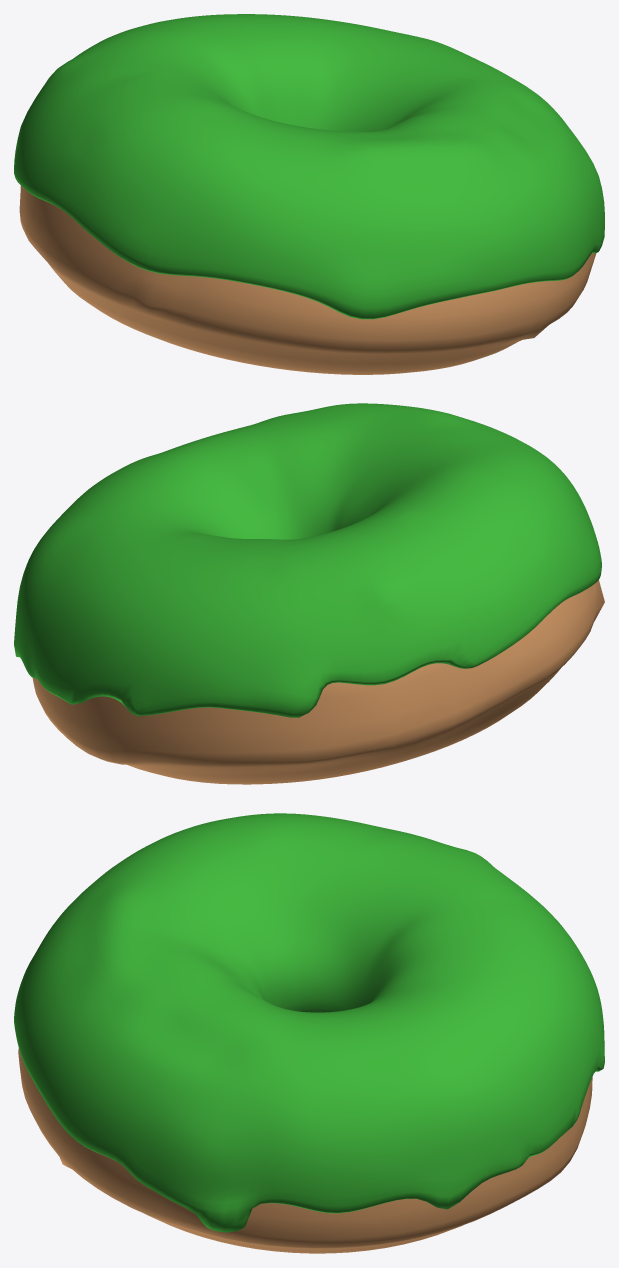
The model's file is donut 2.fbx.
The picture shows the model from 3 angles, top to bottom: view 1: azimuth 30°, elevation 25°; view 2: azimuth 150°, elevation 25°; view 3: azimuth 270°, elevation 25°; orthographic projection.
Visible parts, largest first — view 1: Icing, Donut; view 2: Icing, Donut; view 3: Icing, Donut.
Part boxes in pixels (x1=…): Icing: x1=14, y1=14, x2=604, y2=319; Donut: x1=19, y1=186, x2=596, y2=374; Icing: x1=14, y1=403, x2=601, y2=717; Donut: x1=32, y1=580, x2=604, y2=784; Icing: x1=14, y1=813, x2=604, y2=1232; Donut: x1=18, y1=1048, x2=592, y2=1253.
Bounding box in the file's own units: 10.32 × 5.43 × 10.52.
